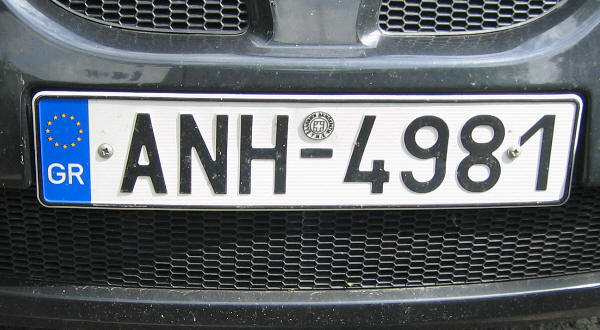license_plate: (33, 91, 583, 209)
